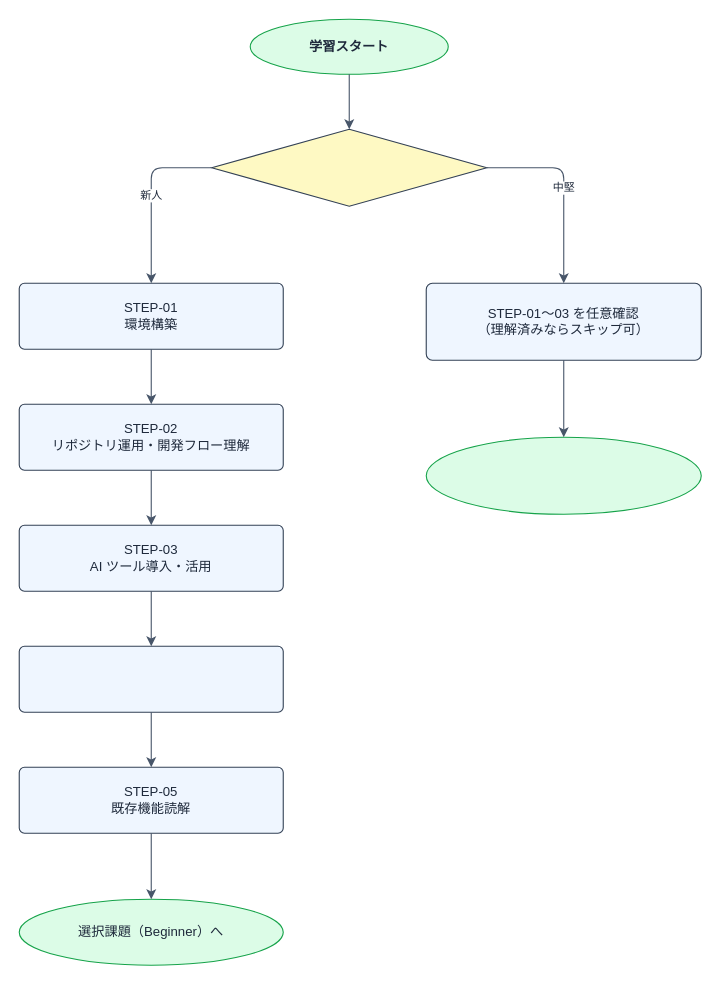
This 721x985 diagram has some shape labels left out. Each missing label, with the centre of its shape:
STEP-04 コードベース把握: the point at 150,678
レベルは？: the point at 349,167
選択課題 （Intermediate / Advanced）へ: the point at 563,475
